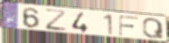1: (102, 14, 113, 36)
4: (71, 11, 90, 33)
6: (21, 7, 42, 30)
F: (118, 15, 140, 37)
Q: (142, 18, 165, 40)
Z: (43, 8, 69, 32)
